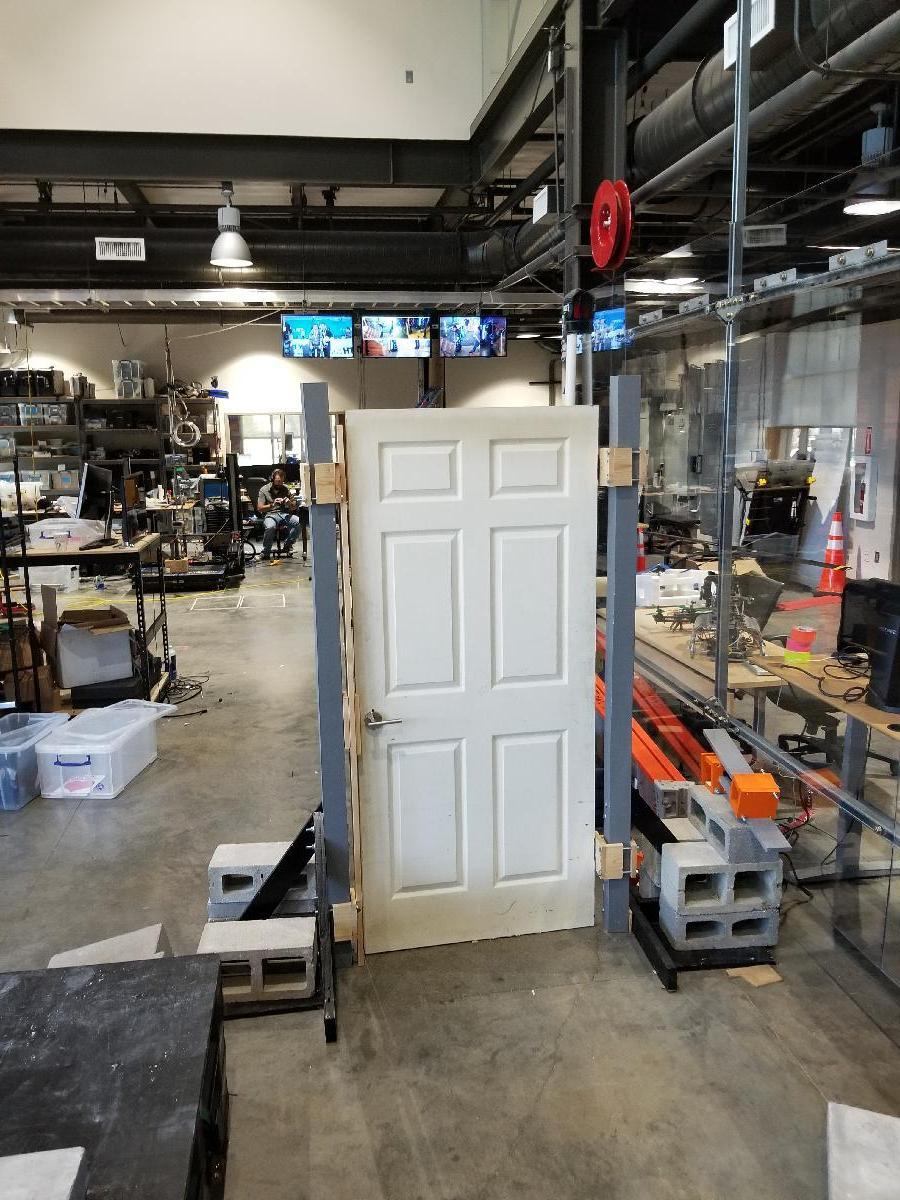door: (348, 400, 605, 956)
handle: (358, 708, 412, 735)
